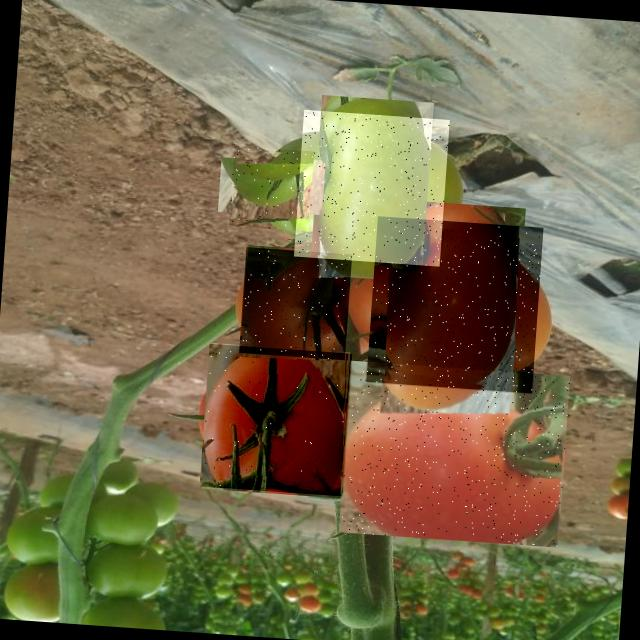Ripe Tomato: (338, 359, 570, 546), (366, 216, 543, 393), (199, 343, 352, 496), (238, 246, 352, 360)
Unripe Tomato: (294, 110, 449, 266), (228, 146, 314, 231)
